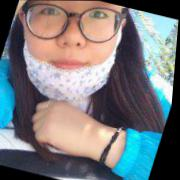WRONG: (4, 1, 130, 106)
